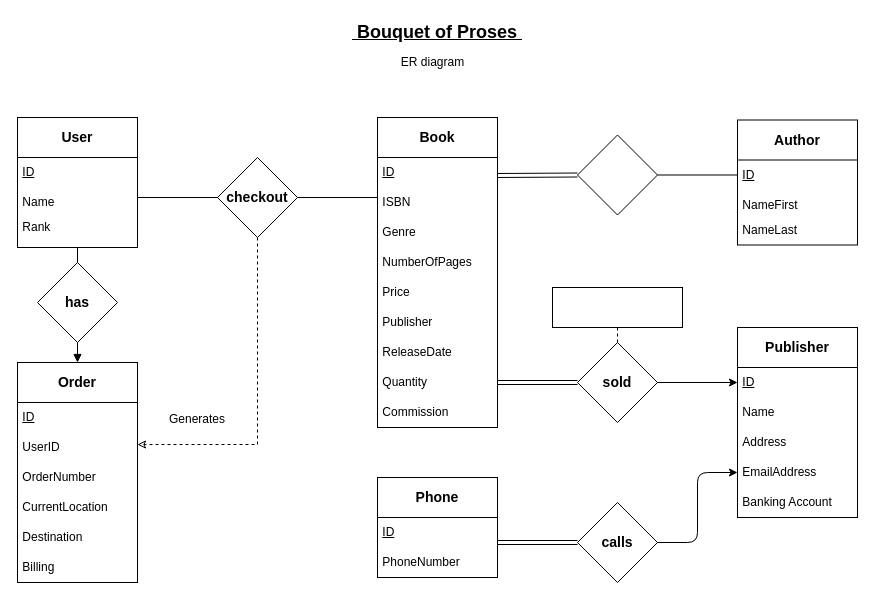
Some shapes in this 876 by 600 pixel diagram are drawn without their labels. The centre of each missing label's shape, as x and y in pixels:
"Date" goes at point 617,307.
"writes" goes at point 617,174.
